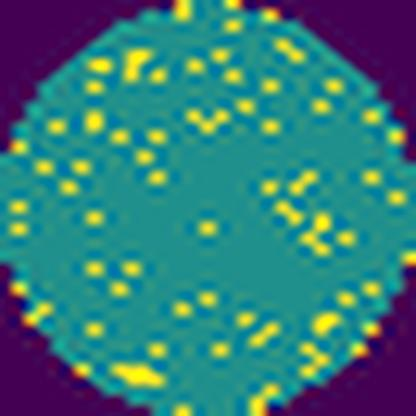Loc: (254, 172, 341, 256), (116, 366, 165, 386)
